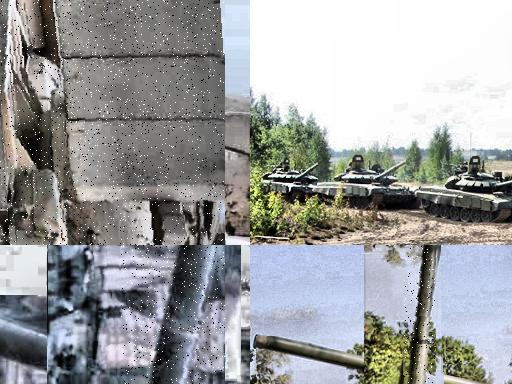tanks: (1, 1, 225, 246), (147, 246, 217, 384), (417, 157, 512, 223), (315, 155, 417, 209), (408, 246, 437, 384), (263, 161, 319, 203)
